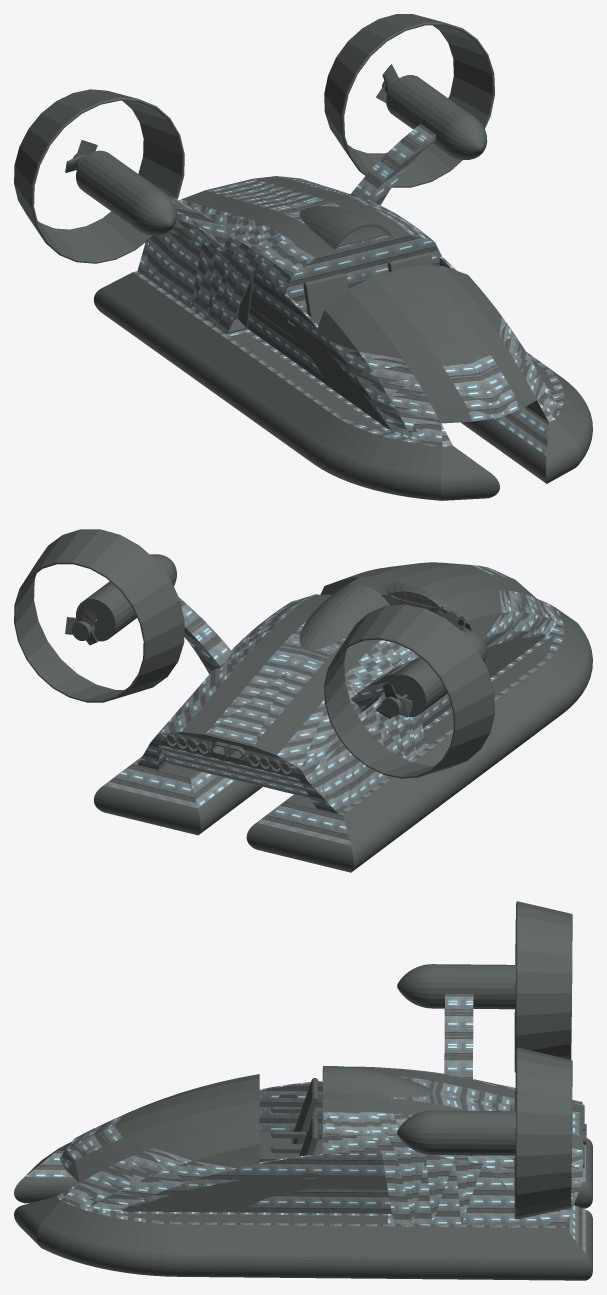
Rendered from Hover.FBX.
3 renders of one model, top to bottom at view 1: azimuth 30°, elevation 25°; view 2: azimuth 150°, elevation 25°; view 3: azimuth 270°, elevation 25°, orthographic. The views are drawn at different scales.
Visible parts, largest first — view 1: Component14_001, Component_001, Component7_002; view 2: Component14_001, Component_001; view 3: Component_001, Component14_001, Component8_002, Component7_002.
Boxes of the visible parts, x1,y1,x2,y2 form: Component14_001: [14, 89, 499, 500]; Component_001: [229, 14, 592, 483]; Component7_002: [303, 277, 330, 325]; Component14_001: [228, 564, 592, 872]; Component_001: [14, 529, 464, 835]; Component_001: [14, 1047, 592, 1280]; Component14_001: [14, 901, 592, 1208]; Component8_002: [259, 1087, 318, 1144]; Component7_002: [259, 1078, 318, 1141].
Size of the model in its own units: 480 by 245 by 536.
Materials: 1 (1 with a texture image).
